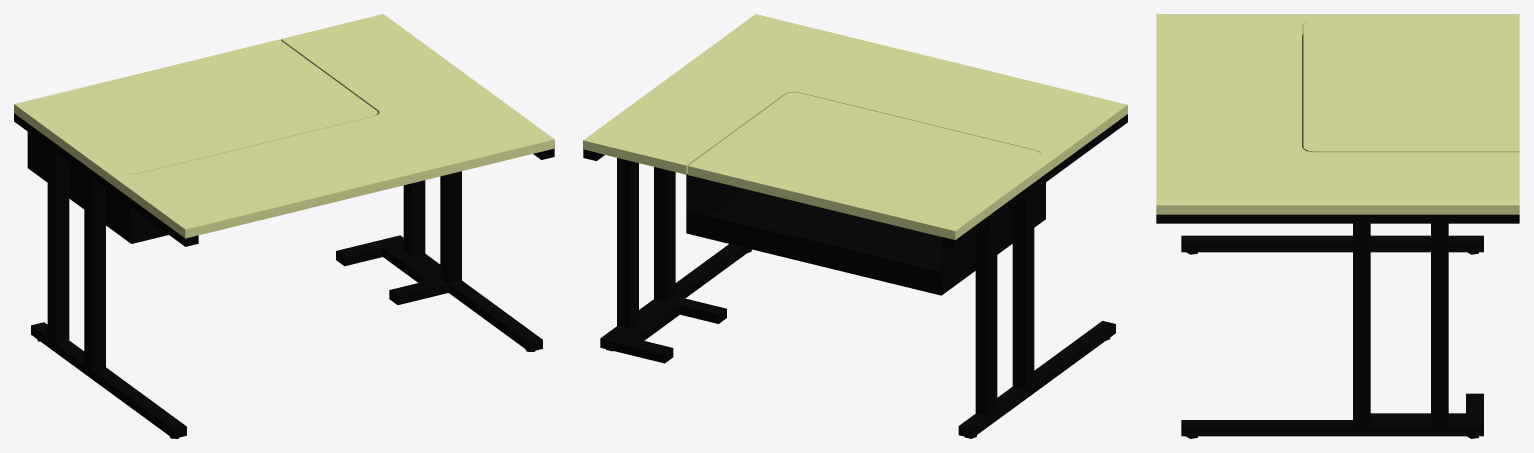
The picture shows the model from 3 angles, left to right: view 1: azimuth 30°, elevation 25°; view 2: azimuth 150°, elevation 25°; view 3: azimuth 270°, elevation 25°; orthographic projection. The views are drawn at different scales.
Parts seen in each view (by area): view 1: Table.001, Rabat.001; view 2: Table.001, Rabat.001; view 3: Table.001, Rabat.001.
Boxes of the visible parts, x1=… form: Table.001: x1=14, y1=14, x2=554, y2=438; Rabat.001: x1=28, y1=39, x2=377, y2=174; Table.001: x1=583, y1=14, x2=1127, y2=438; Rabat.001: x1=688, y1=92, x2=1040, y2=236; Table.001: x1=1156, y1=14, x2=1519, y2=438; Rabat.001: x1=1303, y1=21, x2=1519, y2=152.
Bounding box in the file's own units: 249 × 142 × 200.
